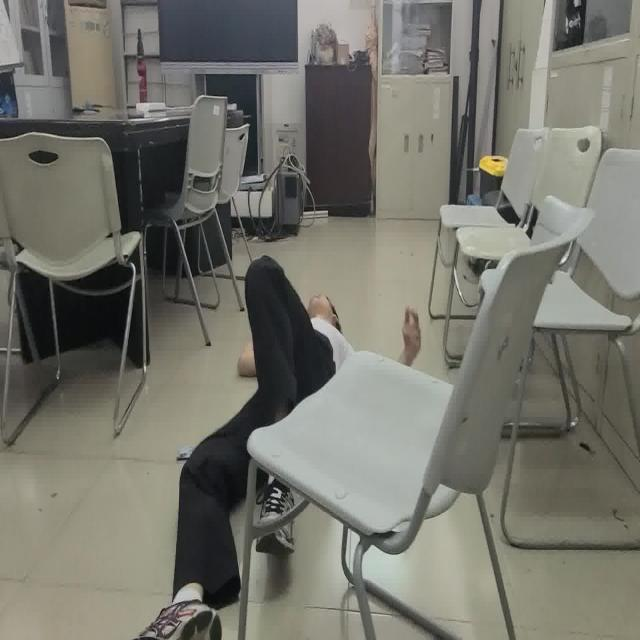Fall-Detected: (134, 253, 425, 640)
